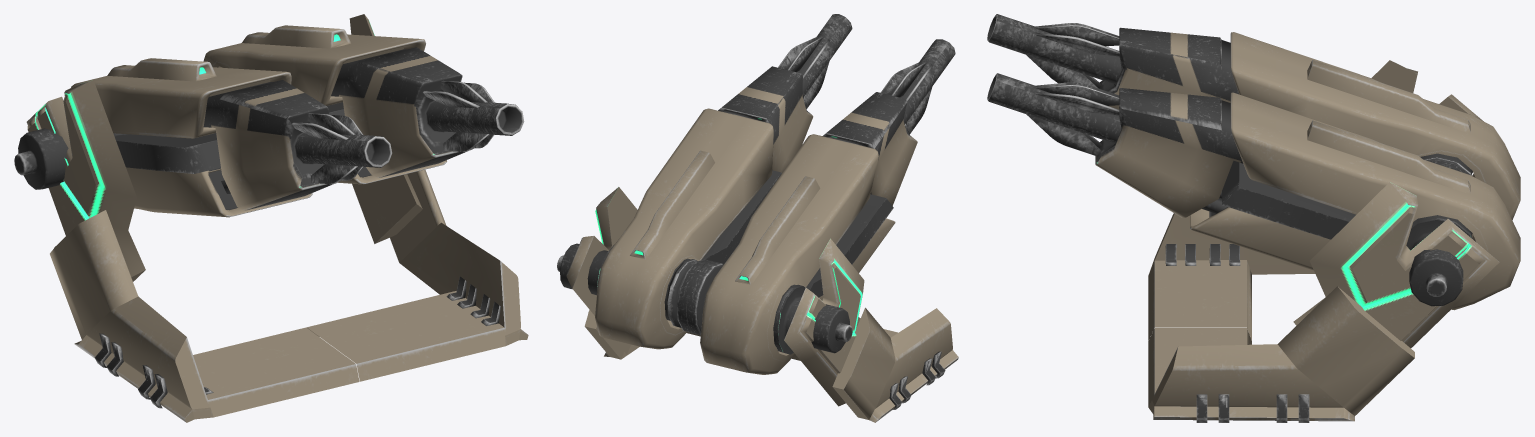
File: Weapon2.fbx
The picture shows the model from 3 angles, left to right: view 1: azimuth 30°, elevation 25°; view 2: azimuth 150°, elevation 25°; view 3: azimuth 270°, elevation 25°; orthographic projection. The views are drawn at different scales.
Parts seen in each view (by area): view 1: Plane.008; view 2: Plane.008; view 3: Plane.008.
Boxes of the visible parts, x1,y1,x2,y2 form: Plane.008: (14,14,528,422); Plane.008: (557,14,958,422); Plane.008: (987,14,1520,422).
Size of the model in its own units: 210 by 177 by 285.
Materials: 1 (1 with a texture image).
